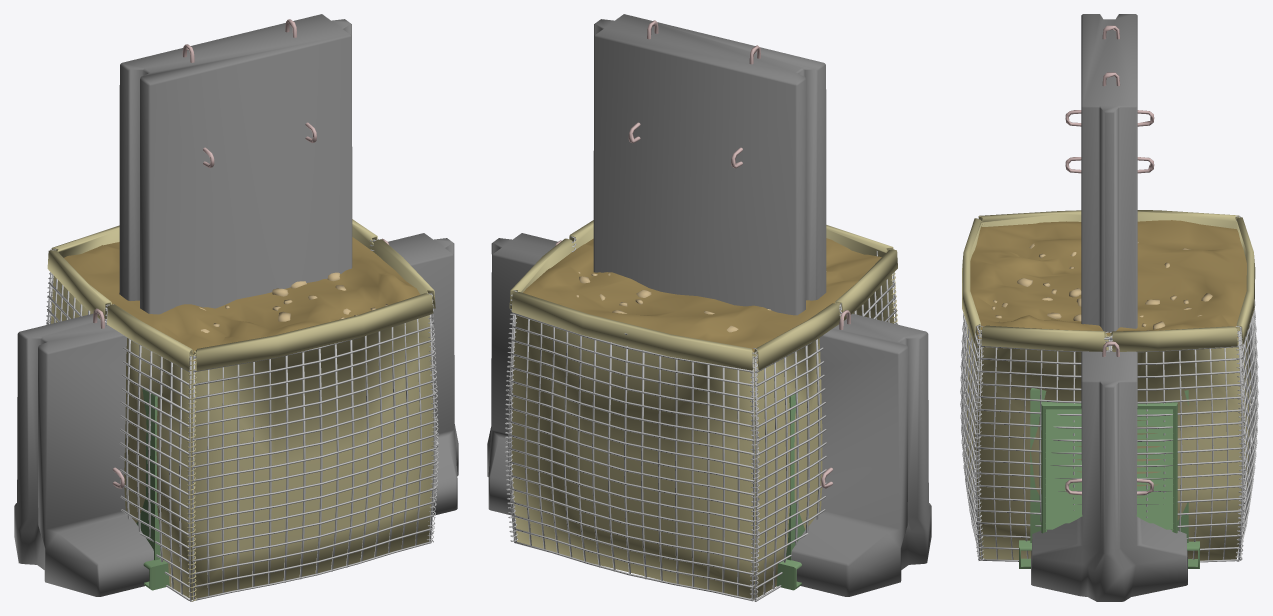
Rendered from outpost.6637b88899.glb.
3 views of the same model, side by side, from view 1: azimuth 30°, elevation 25°; view 2: azimuth 150°, elevation 25°; view 3: azimuth 270°, elevation 25° (orthographic). The views are drawn at different scales.
Parts seen in each view (by area): view 1: hesco, twall_tall, twall_long, crate_big; view 2: hesco, twall_tall, twall_long, crate_big; view 3: hesco, twall_long, twall_tall, crate_big.
Boxes of the visible parts, <box> form: hesco: <box>46,219,438,601</box>; twall_tall: <box>119,14,352,314</box>; twall_long: <box>14,233,458,596</box>; crate_big: <box>136,388,169,590</box>; hesco: <box>505,220,897,601</box>; twall_tall: <box>593,14,826,315</box>; twall_long: <box>487,233,931,596</box>; crate_big: <box>776,392,804,590</box>; hesco: <box>960,210,1258,562</box>; twall_long: <box>1031,341,1187,601</box>; twall_tall: <box>1065,14,1154,331</box>; crate_big: <box>1019,388,1199,568</box>.
Bounding box in the file's own units: 2.7 × 2.99 × 1.77.
